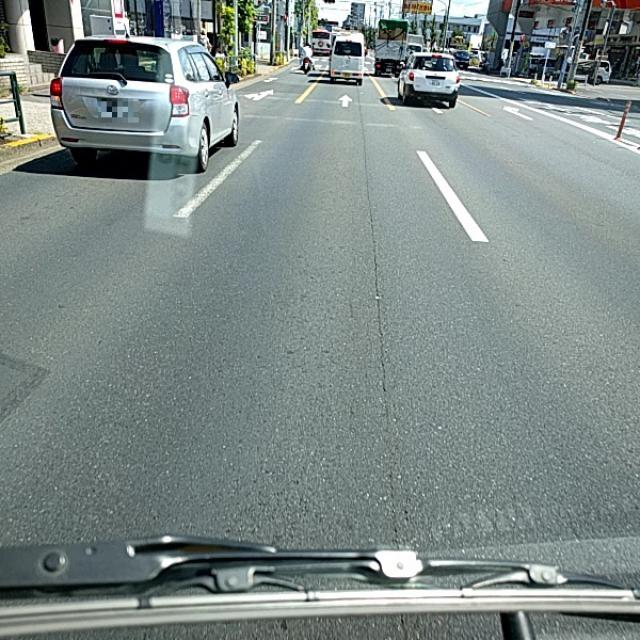pothole: (340, 271, 397, 433)
